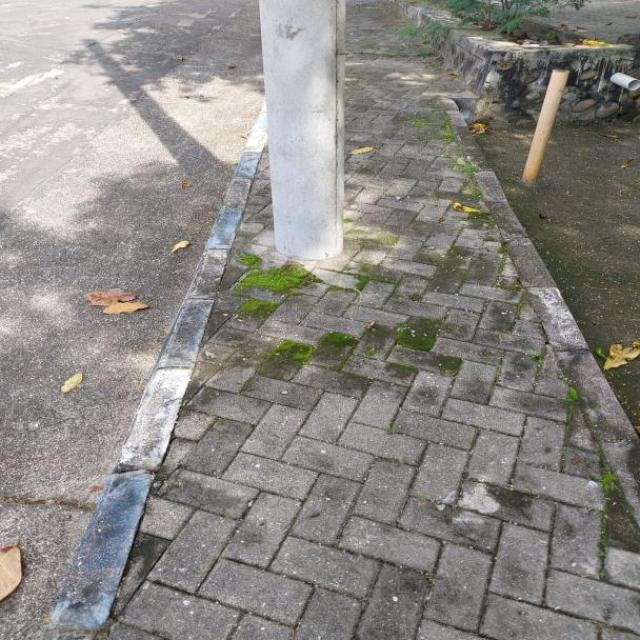barrier ahead at: (525, 58, 574, 193)
